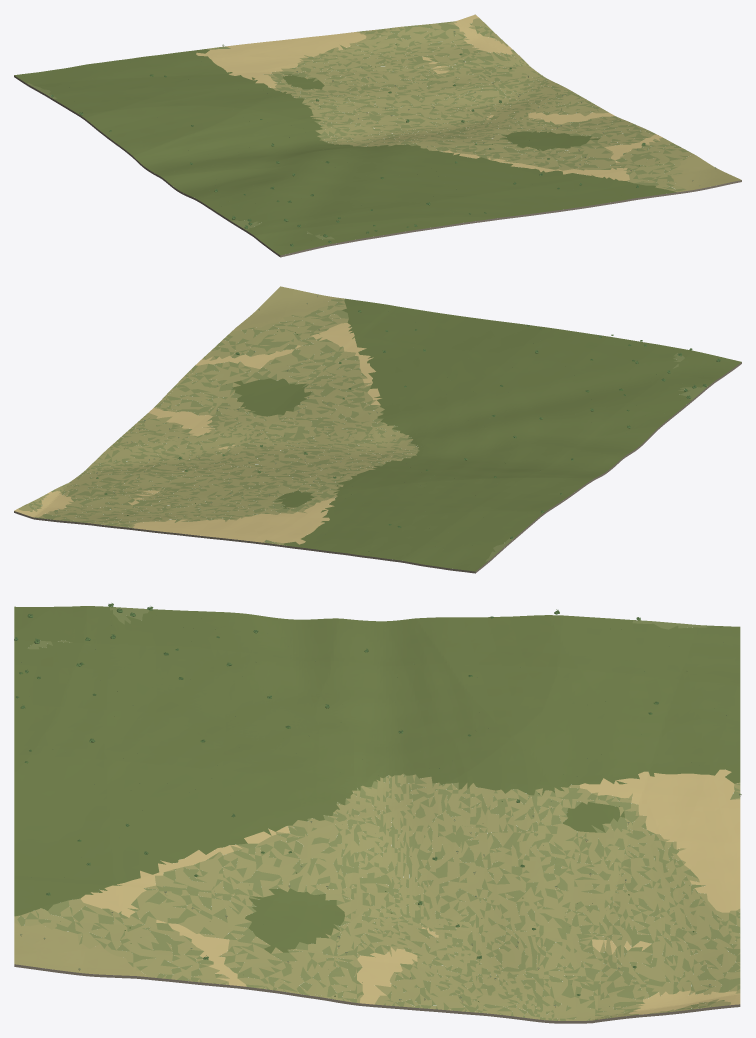
The model's file is parca_+12_-4-yakin.glb.
3 views of the same model, one above another, from view 1: azimuth 30°, elevation 25°; view 2: azimuth 150°, elevation 25°; view 3: azimuth 270°, elevation 25° (orthographic). The views are drawn at different scales.
Parts seen in each view (by area): view 1: parca_+12_-4_arazi, parca_+12_-4_bitkiler; view 2: parca_+12_-4_arazi, parca_+12_-4_bitkiler; view 3: parca_+12_-4_arazi, parca_+12_-4_bitkiler.
Part boxes in pixels (x1,y1,x2,y2): parca_+12_-4_arazi: [14, 14, 741, 257]; parca_+12_-4_bitkiler: [24, 31, 715, 246]; parca_+12_-4_arazi: [14, 286, 741, 573]; parca_+12_-4_bitkiler: [56, 295, 720, 565]; parca_+12_-4_arazi: [14, 606, 740, 1023]; parca_+12_-4_bitkiler: [14, 603, 741, 1020].
Size of the model in its own units: 1004 by 175 by 1003.
